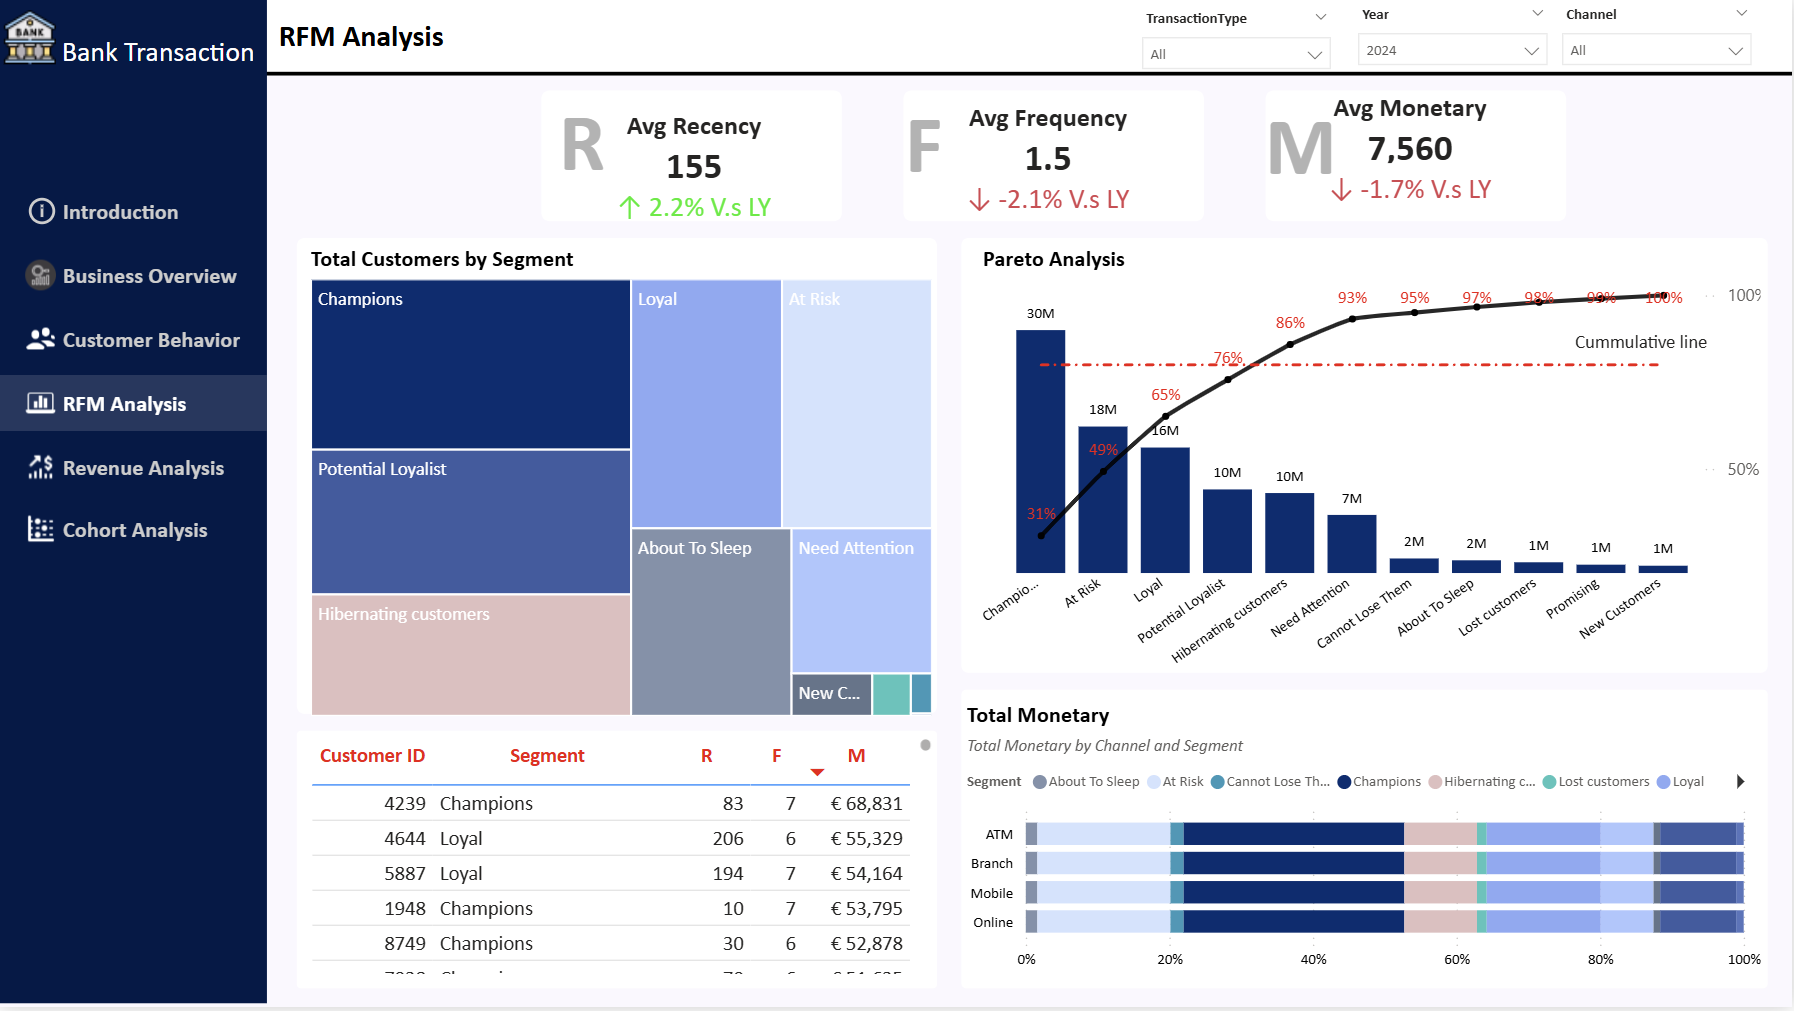

This screenshot's page, from the dashboard's own definition file:
{"tool":"powerbi","page":{"name":"RFM Analysis","canvas":[1280,720],"ordinal":3},"visuals":[{"type":"slicer","title":"year","fields":{"Values":["Dim_date.Year"]},"box":[960.9,4.2,155.5,46.4],"z":0,"group":"g15"},{"type":"group","id":"g1","title":"Card Customers","box":[899.2,66.4,216.5,85.3],"z":0,"group":"g11"},{"type":"card","title":"Avg Monetary","fields":{"Values":["Measure.Avg Dynamic Monetary"]},"box":[899.2,66.4,217.3,56.4],"z":0,"group":"g1"},{"type":"group","id":"g2","title":"Card Customers","box":[640,72.7,216.5,85.3],"z":0,"group":"g12"},{"type":"card","title":"Avg Frequency","fields":{"Values":["Measure.Avg Dynamic Frequency"]},"box":[640,72.7,217.3,56.4],"z":0,"group":"g2"},{"type":"group","id":"g3","title":"Card Customers","box":[387.9,77.9,217.3,85.5],"z":0,"group":"g13"},{"type":"card","title":"Avg Recency","fields":{"Values":["Measure.Avg Dynamic Recency"]},"box":[387.9,77.9,217.3,56.4],"z":0,"group":"g3"},{"type":"lineClusteredColumnComboChart","title":"Pareto Analysis","fields":{"Category":["RFM Ranking.Segment"],"Y":["Measure.Total Monetary"],"Y2":["Measure.Pareto % Monetary","Measure.Pareto line"]},"box":[696.9,175.4,565.7,311.3],"z":0,"group":"g10"},{"type":"actionButton","title":"RFM active Button","box":[0,268.9,190.7,40],"z":0,"group":"g6"},{"type":"group","id":"g4","title":"Cohort Button","box":[0,359.8,190.7,40],"z":0,"group":"g14"},{"type":"slicer","title":"city","fields":{"Values":["Fact_transaction.Channel"]},"box":[1106.4,4.2,155.5,46.4],"z":1000,"group":"g15"},{"type":"textbox","box":[394.5,60.8,49,101.1],"z":1000,"group":"g13"},{"type":"textbox","box":[641.6,63.3,49,101.1],"z":1000,"group":"g12"},{"type":"textbox","box":[899.2,64.8,68,101.1],"z":1000,"group":"g11"},{"type":"card","fields":{"Values":["Measure.MOM monetary growth"]},"box":[899.2,122.8,217.3,29.1],"z":1000,"group":"g1"},{"type":"card","fields":{"Values":["Measure.MOM frequency growth"]},"box":[640,129.1,217.3,29.1],"z":1000,"group":"g2"},{"type":"actionButton","title":"Introduction Button","box":[0,132,192,40],"z":1000,"group":"g9"},{"type":"card","fields":{"Values":["Measure.MOM recency growth"]},"box":[387.9,134.3,217.3,29.1],"z":1000,"group":"g3"},{"type":"actionButton","title":"Business Overview Button","box":[0,177.4,191.8,40],"z":1000,"group":"g8"},{"type":"actionButton","title":"Customer Behavior Button","box":[0,223.4,190.7,40],"z":1000,"group":"g7"},{"type":"textbox","box":[1120.4,229.1,126.4,39.5],"z":1000,"group":"g10"},{"type":"group","id":"g5","title":"Revenue Button","box":[0,314.3,190.7,40],"z":1000,"group":"g14"},{"type":"actionButton","title":"Revenue Button","box":[0,314.3,190.7,40],"z":1000,"group":"g5"},{"type":"actionButton","title":"Cohort Button","box":[0,359.8,190.7,40],"z":1000,"group":"g4"},{"type":"hundredPercentStackedBarChart","title":"Total Monetary","fields":{"Series":["RFM Ranking.Segment"],"Category":["Fact_transaction.Channel"],"Y":["Measure.Total Monetary"]},"box":[685.8,500.9,576.8,200.7],"z":1000},{"type":"slicer","title":"Transaction type","fields":{"Values":["Fact_transaction.TransactionType"]},"box":[806.1,6.5,154.9,45.8],"z":2000,"group":"g15"},{"type":"group","id":"g6","title":"RFM Button","box":[0,268.9,190.7,40],"z":2000,"group":"g14"},{"type":"tableEx","fields":{"Values":["Dim_RFM.CustomerID","RFM Ranking.Segment","Sum(Dim_RFM.Recency)","Sum(Dim_RFM.Frequency)","Sum(Dim_RFM.Monetary)"]},"box":[216.5,523.1,453.5,178.6],"z":2000},{"type":"group","id":"g7","title":"Customers Behavior Button","box":[0,223.4,190.7,40],"z":3000,"group":"g14"},{"type":"group","id":"g8","title":"Business Overview Button","box":[0,177.4,191.8,40.5],"z":4000,"group":"g14"},{"type":"group","id":"g9","title":"Introduction Button","box":[0,132,192,40],"z":5000,"group":"g14"},{"type":"group","id":"g10","title":"Pareto chart","box":[696.9,175.4,565.7,311.3],"z":7000},{"type":"treemap","fields":{"Group":["RFM Ranking.Segment"],"Values":["Measure.Total Customers"]},"box":[216.5,175.4,453.5,341.3],"z":7062},{"type":"group","id":"g11","title":"Card Monetary","box":[899.2,64.8,216.5,101.1],"z":7125},{"type":"group","id":"g12","title":"Card Frequency","box":[640,63.3,216.5,101.1],"z":7250},{"type":"group","id":"g13","title":"Card Recency","box":[387.9,60.8,217.3,102.5],"z":7500},{"type":"group","id":"g14","title":"Navigation","box":[0,132,192,267.8],"z":8000},{"type":"group","id":"g15","title":"Slicer","box":[806.1,4.2,455.9,48.6],"z":8500}]}

Visuals, with their boxes on the page's 1280x720 design canvas (x1, y1, x2, y2). These are canvas units, not pixel positions in the 1794x1011 screenshot, which may show the page scaled, cropped or inside an application window:
"year" slicer: [left=961, top=4, right=1116, bottom=51]
"Card Customers" group: [left=899, top=66, right=1116, bottom=152]
"Avg Monetary" card: [left=899, top=66, right=1116, bottom=123]
"Card Customers" group: [left=640, top=73, right=856, bottom=158]
"Avg Frequency" card: [left=640, top=73, right=857, bottom=129]
"Card Customers" group: [left=388, top=78, right=605, bottom=163]
"Avg Recency" card: [left=388, top=78, right=605, bottom=134]
"Pareto Analysis" lineClusteredColumnComboChart: [left=697, top=175, right=1263, bottom=487]
"RFM active Button" actionButton: [left=0, top=269, right=191, bottom=309]
"Cohort Button" group: [left=0, top=360, right=191, bottom=400]
"city" slicer: [left=1106, top=4, right=1262, bottom=51]
textbox: [left=394, top=61, right=444, bottom=162]
textbox: [left=642, top=63, right=691, bottom=164]
textbox: [left=899, top=65, right=967, bottom=166]
card - Measure.MOM monetary growth: [left=899, top=123, right=1116, bottom=152]
card - Measure.MOM frequency growth: [left=640, top=129, right=857, bottom=158]
"Introduction Button" actionButton: [left=0, top=132, right=192, bottom=172]
card - Measure.MOM recency growth: [left=388, top=134, right=605, bottom=163]
"Business Overview Button" actionButton: [left=0, top=177, right=192, bottom=217]
"Customer Behavior Button" actionButton: [left=0, top=223, right=191, bottom=263]
textbox: [left=1120, top=229, right=1247, bottom=269]
"Revenue Button" group: [left=0, top=314, right=191, bottom=354]
"Revenue Button" actionButton: [left=0, top=314, right=191, bottom=354]
"Cohort Button" actionButton: [left=0, top=360, right=191, bottom=400]
"Total Monetary" hundredPercentStackedBarChart: [left=686, top=501, right=1263, bottom=702]
"Transaction type" slicer: [left=806, top=6, right=961, bottom=52]
"RFM Button" group: [left=0, top=269, right=191, bottom=309]
tableEx - Dim_RFM.CustomerID x RFM Ranking.Segment: [left=216, top=523, right=670, bottom=702]
"Customers Behavior Button" group: [left=0, top=223, right=191, bottom=263]
"Business Overview Button" group: [left=0, top=177, right=192, bottom=218]
"Introduction Button" group: [left=0, top=132, right=192, bottom=172]
"Pareto chart" group: [left=697, top=175, right=1263, bottom=487]
treemap - RFM Ranking.Segment x Measure.Total Customers: [left=216, top=175, right=670, bottom=517]
"Card Monetary" group: [left=899, top=65, right=1116, bottom=166]
"Card Frequency" group: [left=640, top=63, right=856, bottom=164]
"Card Recency" group: [left=388, top=61, right=605, bottom=163]
"Navigation" group: [left=0, top=132, right=192, bottom=400]
"Slicer" group: [left=806, top=4, right=1262, bottom=53]
